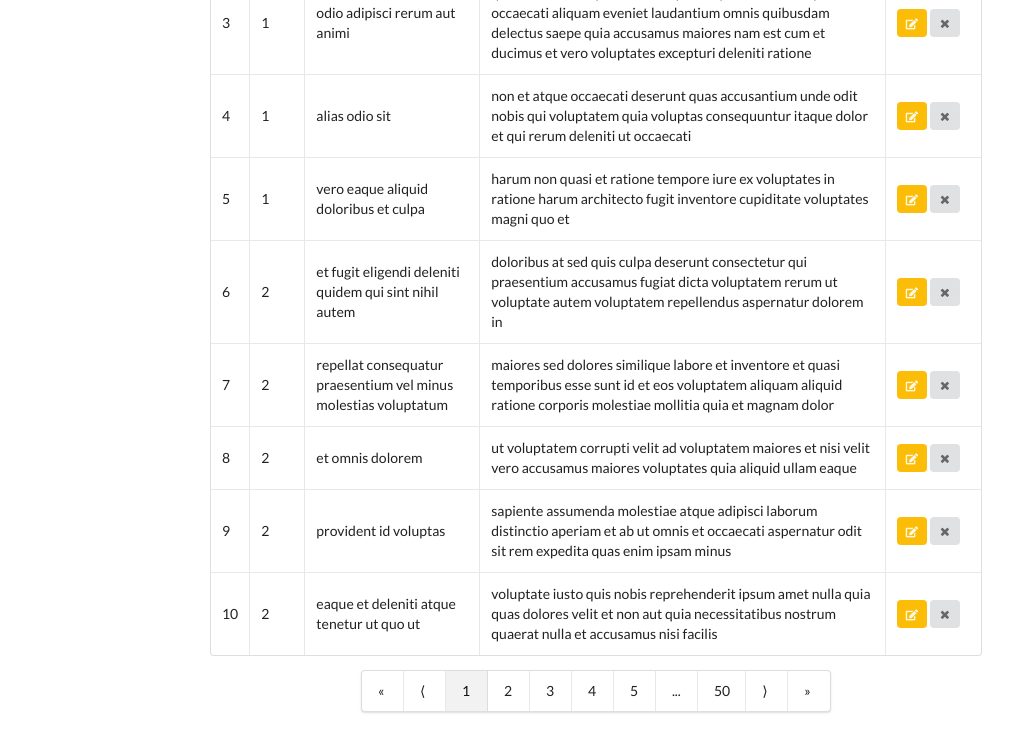
Test: Comments Page Test › should change to page 2 on paginator button click
(page scrolled)
Click the link "2".
click(509, 691)  # box [488,671,530,711]
(page scrolled)
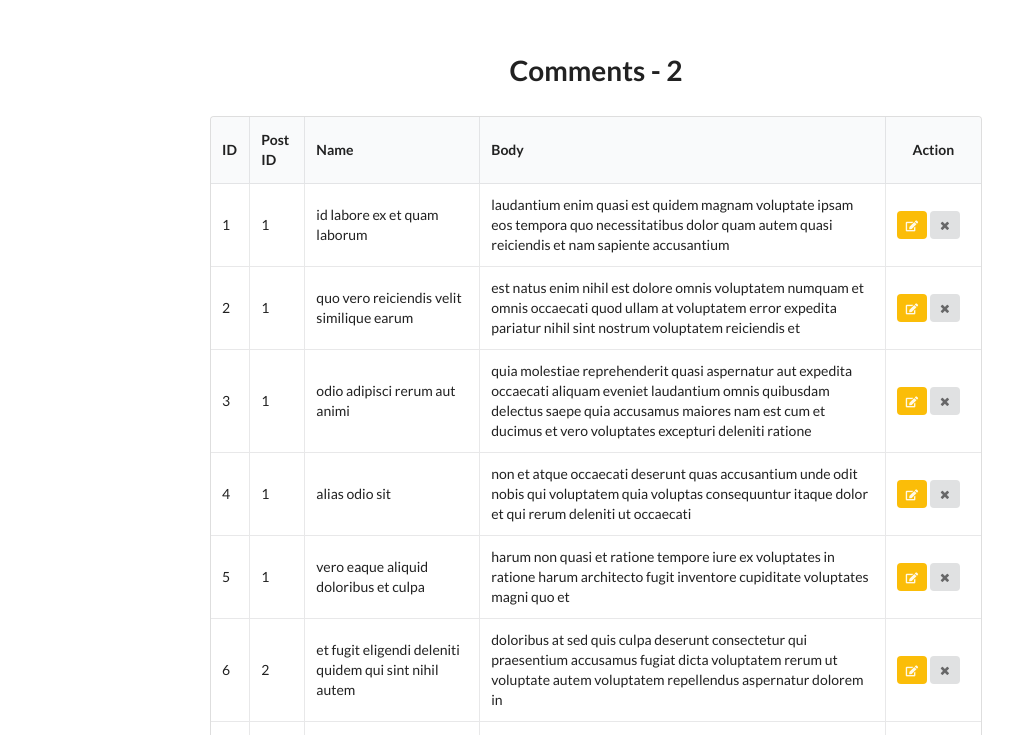
expect the heading "Comments - 2" is shown: met, box [510,52,682,88]
